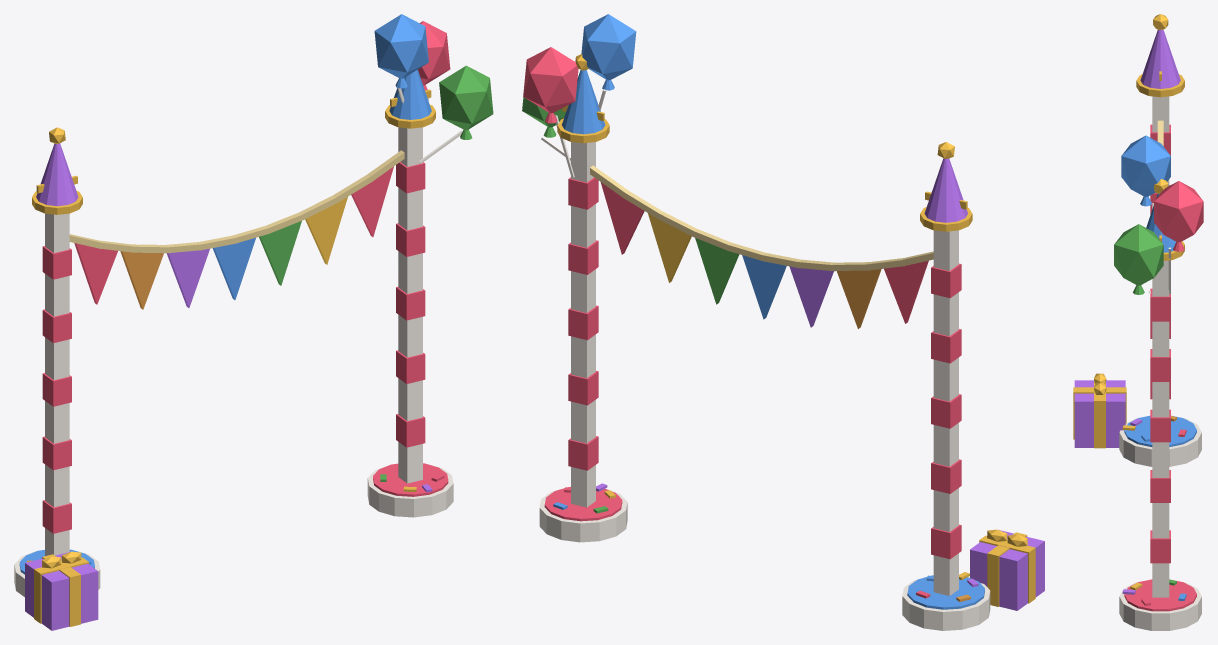
Rendered from CatCafe_Decor_PartyBunting.glb.
3 renders of one model, left to right at view 1: azimuth 30°, elevation 25°; view 2: azimuth 150°, elevation 25°; view 3: azimuth 270°, elevation 25°, orthographic. The views are drawn at different scales.
Visible parts, largest first — view 1: CatCafe_Decor_PartyBunting, CatCafe_Decor_PartyBunting_Flag07_Pennant, CatCafe_Decor_PartyBunting_Flag06_Pennant, CatCafe_Decor_PartyBunting_Flag05_Pennant, CatCafe_Decor_PartyBunting_Flag04_Pennant, CatCafe_Decor_PartyBunting_Flag03_Pennant, CatCafe_Decor_PartyBunting_Flag02_Pennant, CatCafe_Decor_PartyBunting_Flag01_Pennant; view 2: CatCafe_Decor_PartyBunting, CatCafe_Decor_PartyBunting_Flag07_Pennant, CatCafe_Decor_PartyBunting_Flag06_Pennant, CatCafe_Decor_PartyBunting_Flag05_Pennant, CatCafe_Decor_PartyBunting_Flag04_Pennant, CatCafe_Decor_PartyBunting_Flag03_Pennant, CatCafe_Decor_PartyBunting_Flag02_Pennant, CatCafe_Decor_PartyBunting_Flag01_Pennant; view 3: CatCafe_Decor_PartyBunting.
Boxes of the visible parts, <box> form: CatCafe_Decor_PartyBunting: <box>14,14,493,630</box>; CatCafe_Decor_PartyBunting_Flag07_Pennant: <box>74,243,117,304</box>; CatCafe_Decor_PartyBunting_Flag06_Pennant: <box>120,251,163,309</box>; CatCafe_Decor_PartyBunting_Flag05_Pennant: <box>166,248,209,307</box>; CatCafe_Decor_PartyBunting_Flag04_Pennant: <box>212,237,255,299</box>; CatCafe_Decor_PartyBunting_Flag03_Pennant: <box>259,221,301,285</box>; CatCafe_Decor_PartyBunting_Flag02_Pennant: <box>305,197,347,264</box>; CatCafe_Decor_PartyBunting_Flag01_Pennant: <box>351,166,393,236</box>; CatCafe_Decor_PartyBunting: <box>522,14,1044,630</box>; CatCafe_Decor_PartyBunting_Flag07_Pennant: <box>884,260,928,323</box>; CatCafe_Decor_PartyBunting_Flag06_Pennant: <box>836,269,881,328</box>; CatCafe_Decor_PartyBunting_Flag05_Pennant: <box>789,266,833,327</box>; CatCafe_Decor_PartyBunting_Flag04_Pennant: <box>742,255,786,319</box>; CatCafe_Decor_PartyBunting_Flag03_Pennant: <box>695,238,739,304</box>; CatCafe_Decor_PartyBunting_Flag02_Pennant: <box>648,213,691,282</box>; CatCafe_Decor_PartyBunting_Flag01_Pennant: <box>600,182,644,254</box>; CatCafe_Decor_PartyBunting: <box>1073,14,1203,630</box>.
Size of the model in its own units: 4.28 by 4.28 by 1.07.
Materials: 1 (1 with a texture image).
